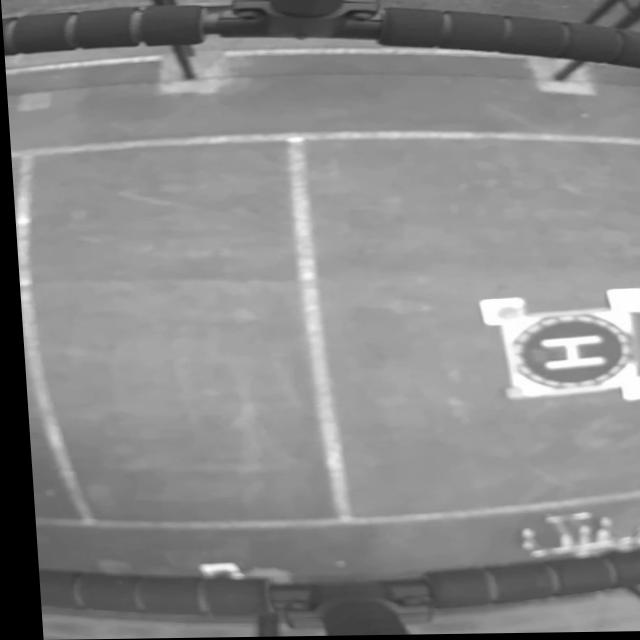Helipad: (533, 336, 600, 372)
